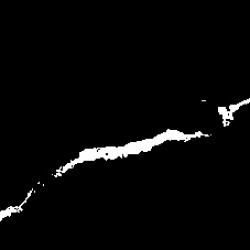crack: (1, 130, 212, 223), (218, 94, 248, 129)
pinhole: (200, 97, 211, 106)
